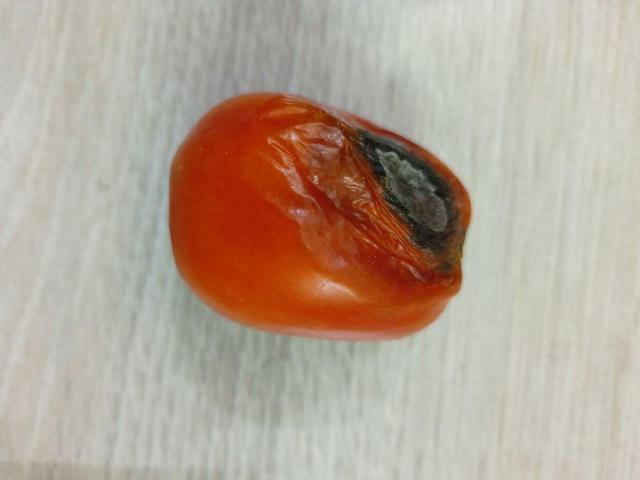defect: (168, 88, 479, 343)
